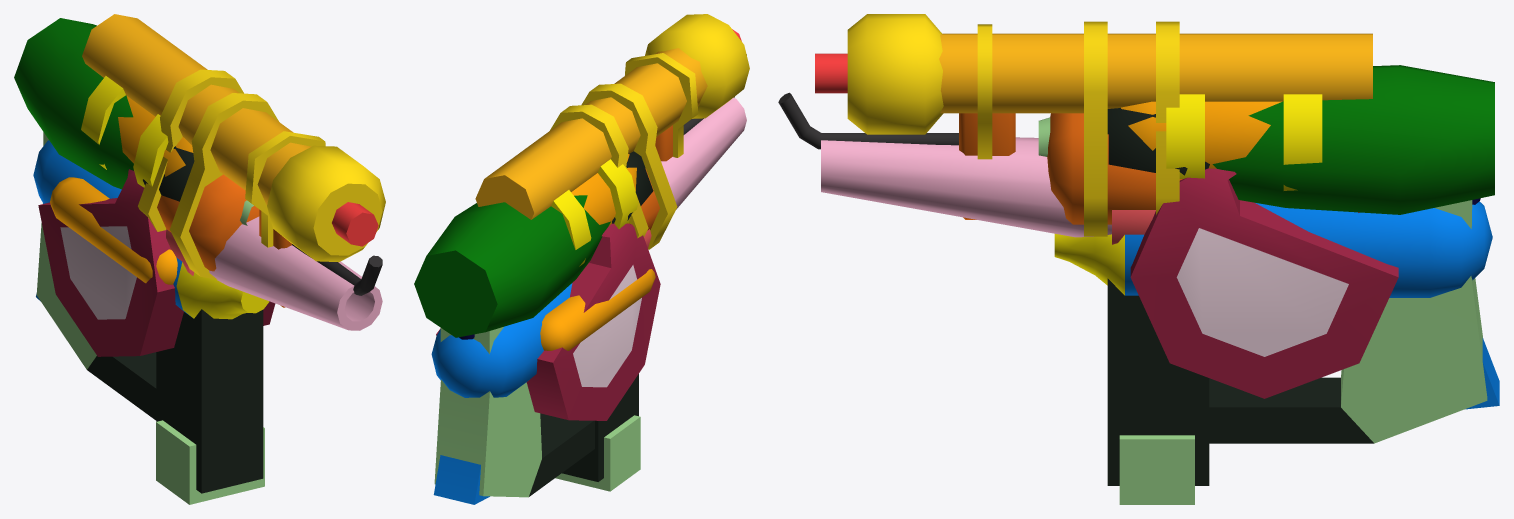
The model's file is mod_weapons.FBX.
3 views of the same model, side by side, from view 1: azimuth 30°, elevation 25°; view 2: azimuth 150°, elevation 25°; view 3: azimuth 270°, elevation 25° (orthographic). The views are drawn at different scales.
Parts seen in each view (by area): view 1: mesh_flamethrower, mesh_seedgun, mesh_windgun, mesh_watergun; view 2: mesh_seedgun, mesh_flamethrower, mesh_windgun, mesh_watergun; view 3: mesh_seedgun, mesh_flamethrower, mesh_windgun, mesh_watergun.
Part boxes in pixels (bbox=[...]): mesh_flamethrower: bbox=[82, 14, 385, 307]; mesh_seedgun: bbox=[14, 18, 264, 504]; mesh_windgun: bbox=[38, 169, 382, 356]; mesh_watergun: bbox=[33, 76, 269, 319]; mesh_seedgun: bbox=[414, 151, 653, 497]; mesh_flamethrower: bbox=[475, 14, 749, 249]; mesh_windgun: bbox=[436, 97, 746, 420]; mesh_watergun: bbox=[431, 154, 655, 504]; mesh_seedgun: bbox=[1038, 65, 1494, 504]; mesh_flamethrower: bbox=[778, 14, 1372, 236]; mesh_windgun: bbox=[821, 137, 1398, 398]; mesh_watergun: bbox=[1054, 94, 1499, 409].
Bounding box in the file's own units: 14.06 × 41.8 × 58.79.
1 material, 1 textured.
